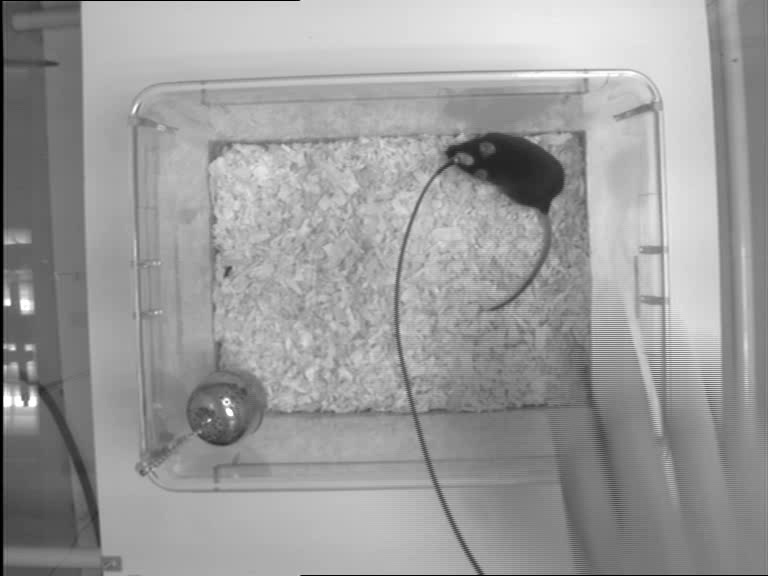mice: (443, 128, 566, 318)
